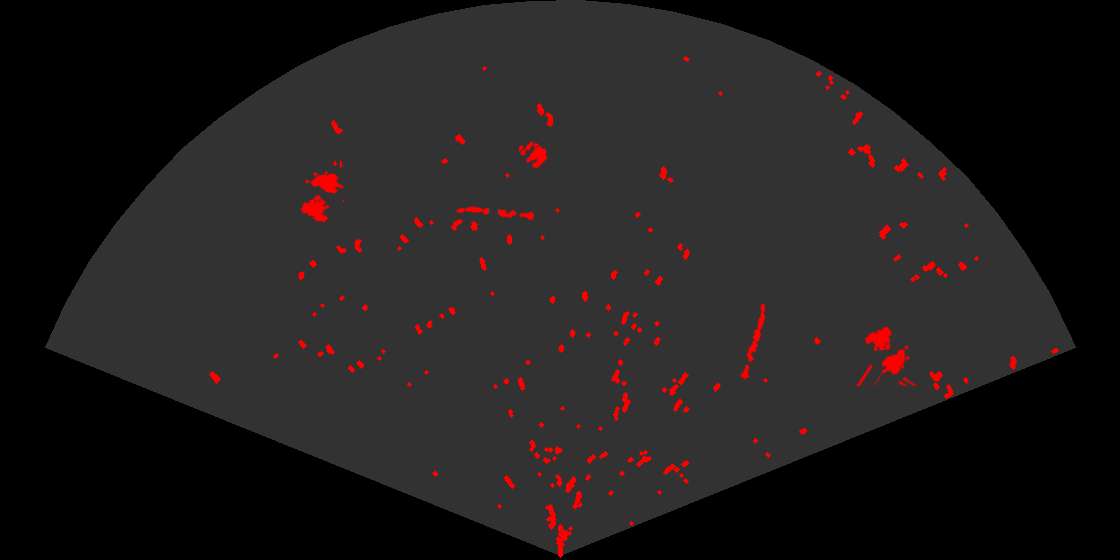ball: (519, 140, 549, 170)
cage: (854, 325, 919, 386), (299, 161, 344, 225)
chain: (739, 301, 767, 384), (454, 204, 536, 222)
